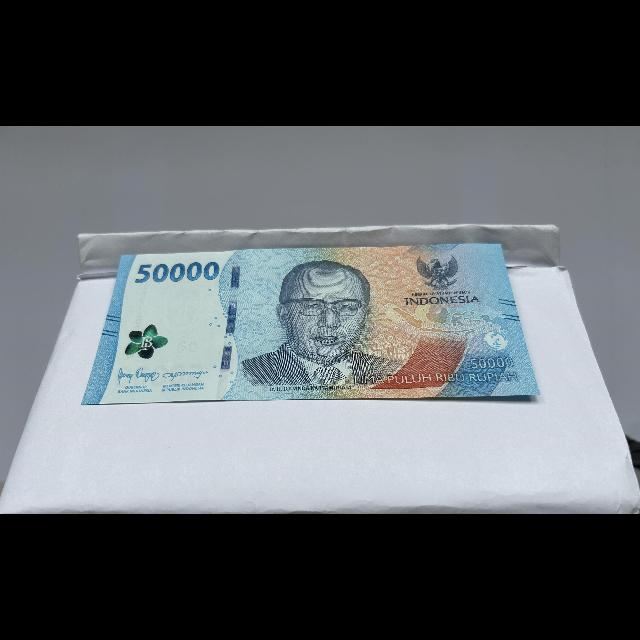Asli-50k: (75, 240, 543, 407)
Tinta-Asli-50k: (122, 318, 174, 366)
